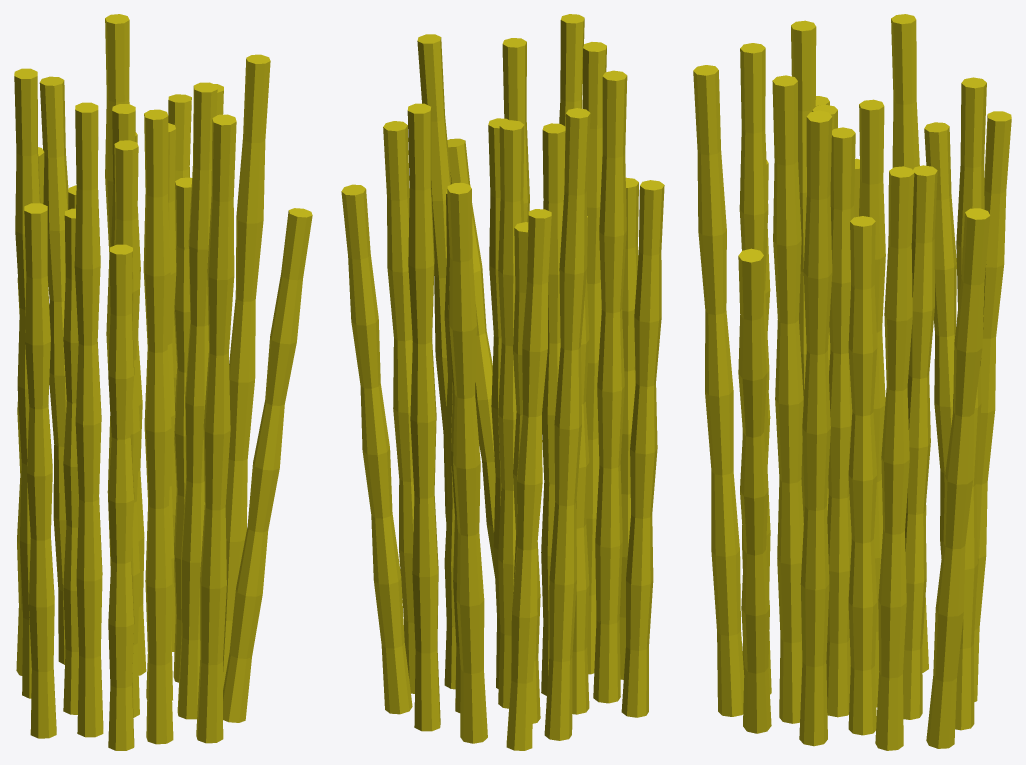
File: bamboo.fbx
3 renders of one model, left to right at view 1: azimuth 30°, elevation 25°; view 2: azimuth 150°, elevation 25°; view 3: azimuth 270°, elevation 25°, orthographic. The views are drawn at different scales.
Visible parts, largest first — view 1: Cylinder.001; view 2: Cylinder.001; view 3: Cylinder.001.
Boxes of the visible parts, box(x1,y1,x2,y2) form: Cylinder.001: box(14, 14, 312, 750); Cylinder.001: box(341, 14, 664, 750); Cylinder.001: box(693, 14, 1011, 750).
Size of the model in its own units: 186 by 176 by 416.
